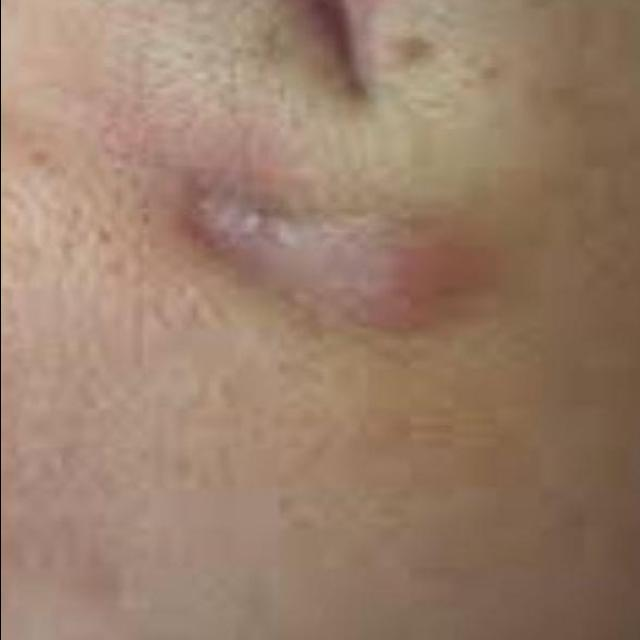nodule: (174, 165, 513, 355)
